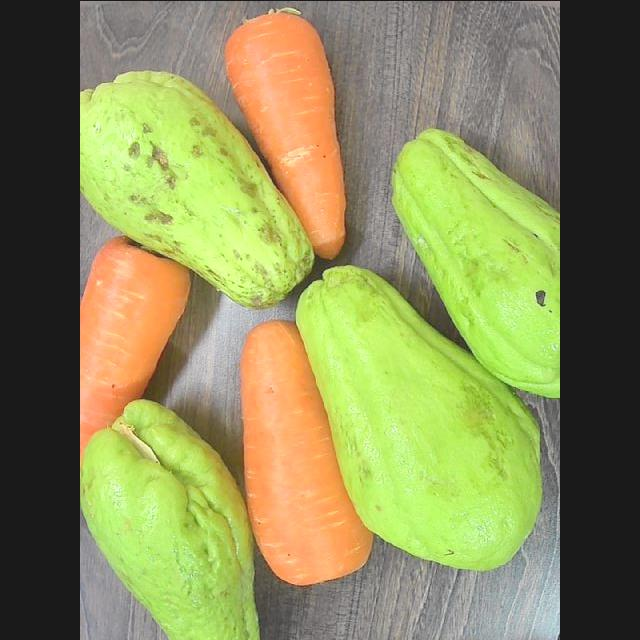chayote: (296, 265, 540, 569), (80, 70, 313, 307), (392, 128, 559, 396), (80, 399, 259, 639)
zanahoria: (240, 320, 372, 582), (225, 7, 345, 257), (80, 236, 190, 460)
